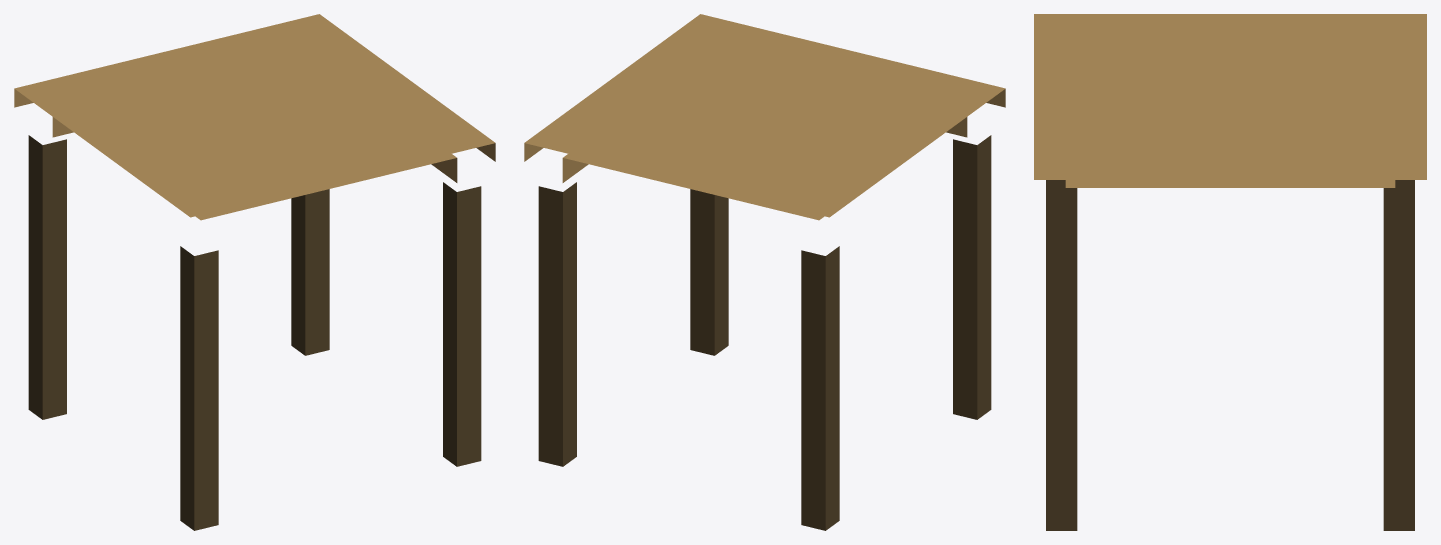
The model's file is Table-oak.glb.
3 views of the same model, side by side, from view 1: azimuth 30°, elevation 25°; view 2: azimuth 150°, elevation 25°; view 3: azimuth 270°, elevation 25° (orthographic). The views are drawn at different scales.
Parts seen in each view (by area): view 1: Table; view 2: Table; view 3: Table.
Boxes of the visible parts, x1,y1,x2,y2 form: Table: (14, 14, 495, 530); Table: (524, 14, 1005, 530); Table: (1034, 14, 1426, 530).
Size of the model in its own units: 1 by 1 by 1.
